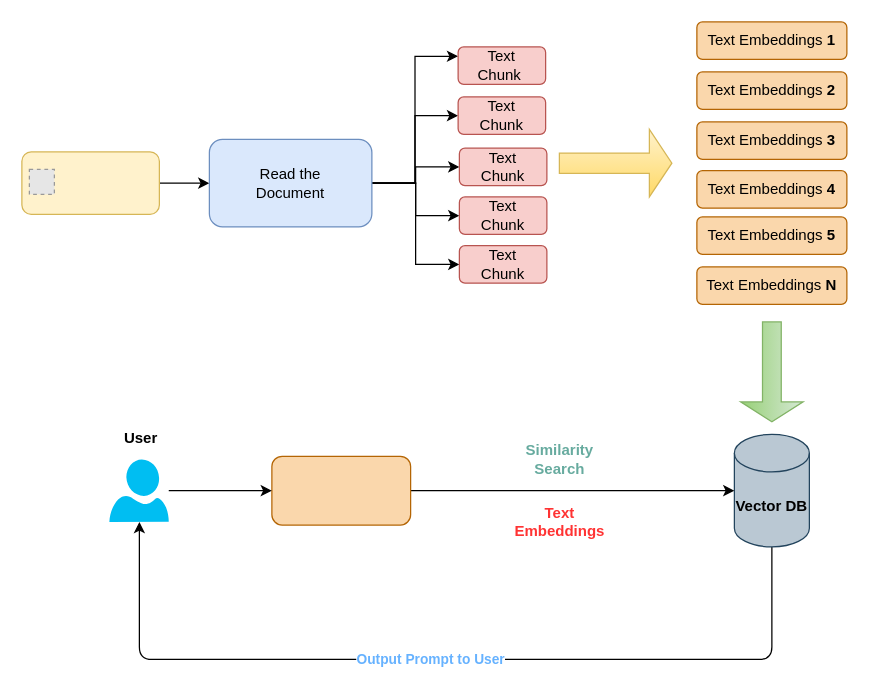
This 869x691 diagram has some shape labels left out. Grey dashed boxes stand in for pictures. The box of each missing label's shape, as (x1, y1, x2, y2) in pixels:
PDF Document: (21, 151, 159, 214)
Text Query: (271, 455, 411, 525)
